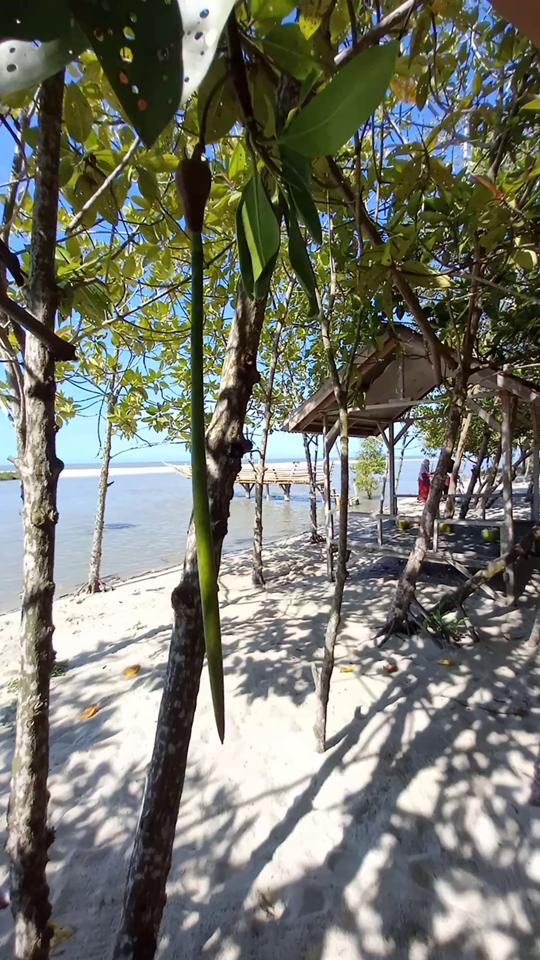setengah matang: (164, 140, 245, 755)
